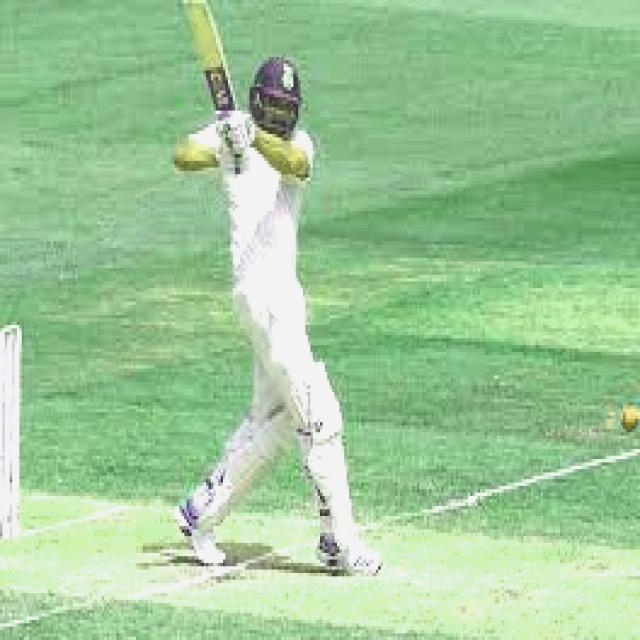toe: (180, 0, 214, 19)
